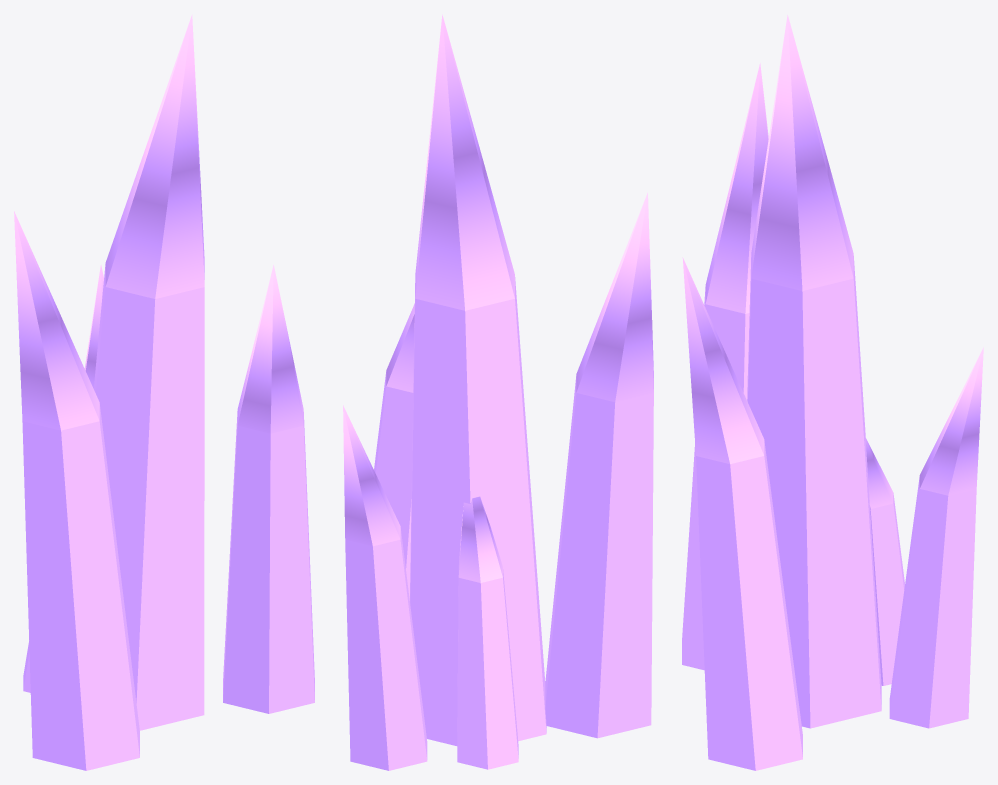
Rendered from crystal_cluster.glb.
The picture shows the model from 3 angles, left to right: view 1: azimuth 30°, elevation 25°; view 2: azimuth 150°, elevation 25°; view 3: azimuth 270°, elevation 25°; orthographic projection. The views are drawn at different scales.
Parts seen in each view (by area): view 1: crystal_cluster; view 2: crystal_cluster; view 3: crystal_cluster.
Boxes of the visible parts, box(x1,y1,x2,y2) form: crystal_cluster: box(14, 14, 314, 770); crystal_cluster: box(343, 14, 653, 770); crystal_cluster: box(682, 15, 983, 770).
Bounding box in the file's own units: 0.78 × 1.7 × 0.6612.
